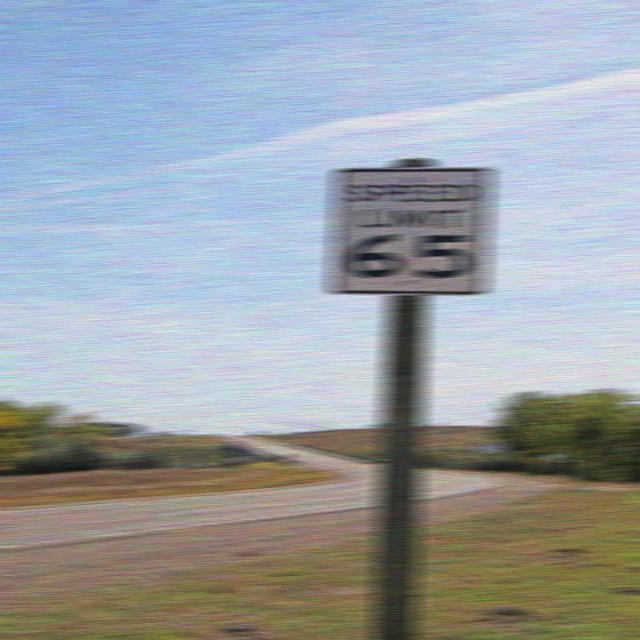speedLimit65: (338, 174, 479, 284)
